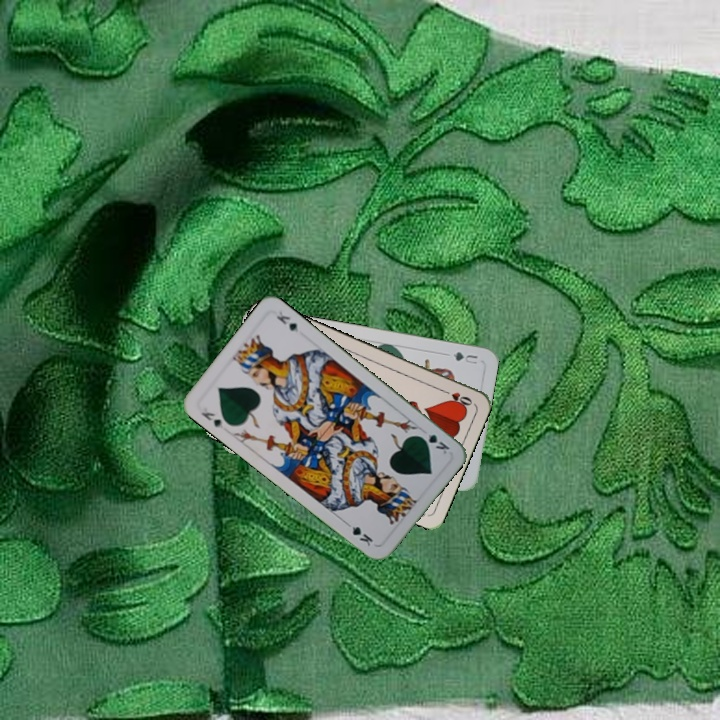GK: (415, 429, 452, 457), (197, 408, 225, 431)
GU: (447, 348, 480, 367)
HO: (437, 385, 475, 408)
